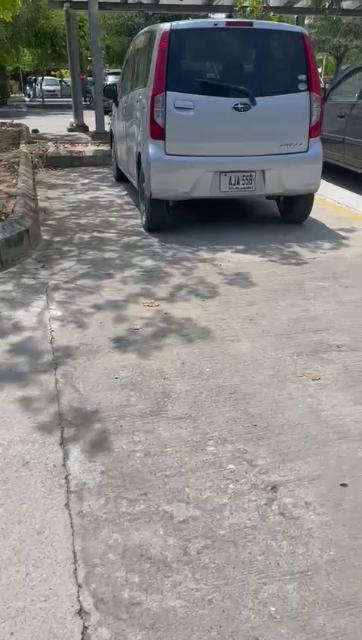plate: (220, 168, 260, 192)
